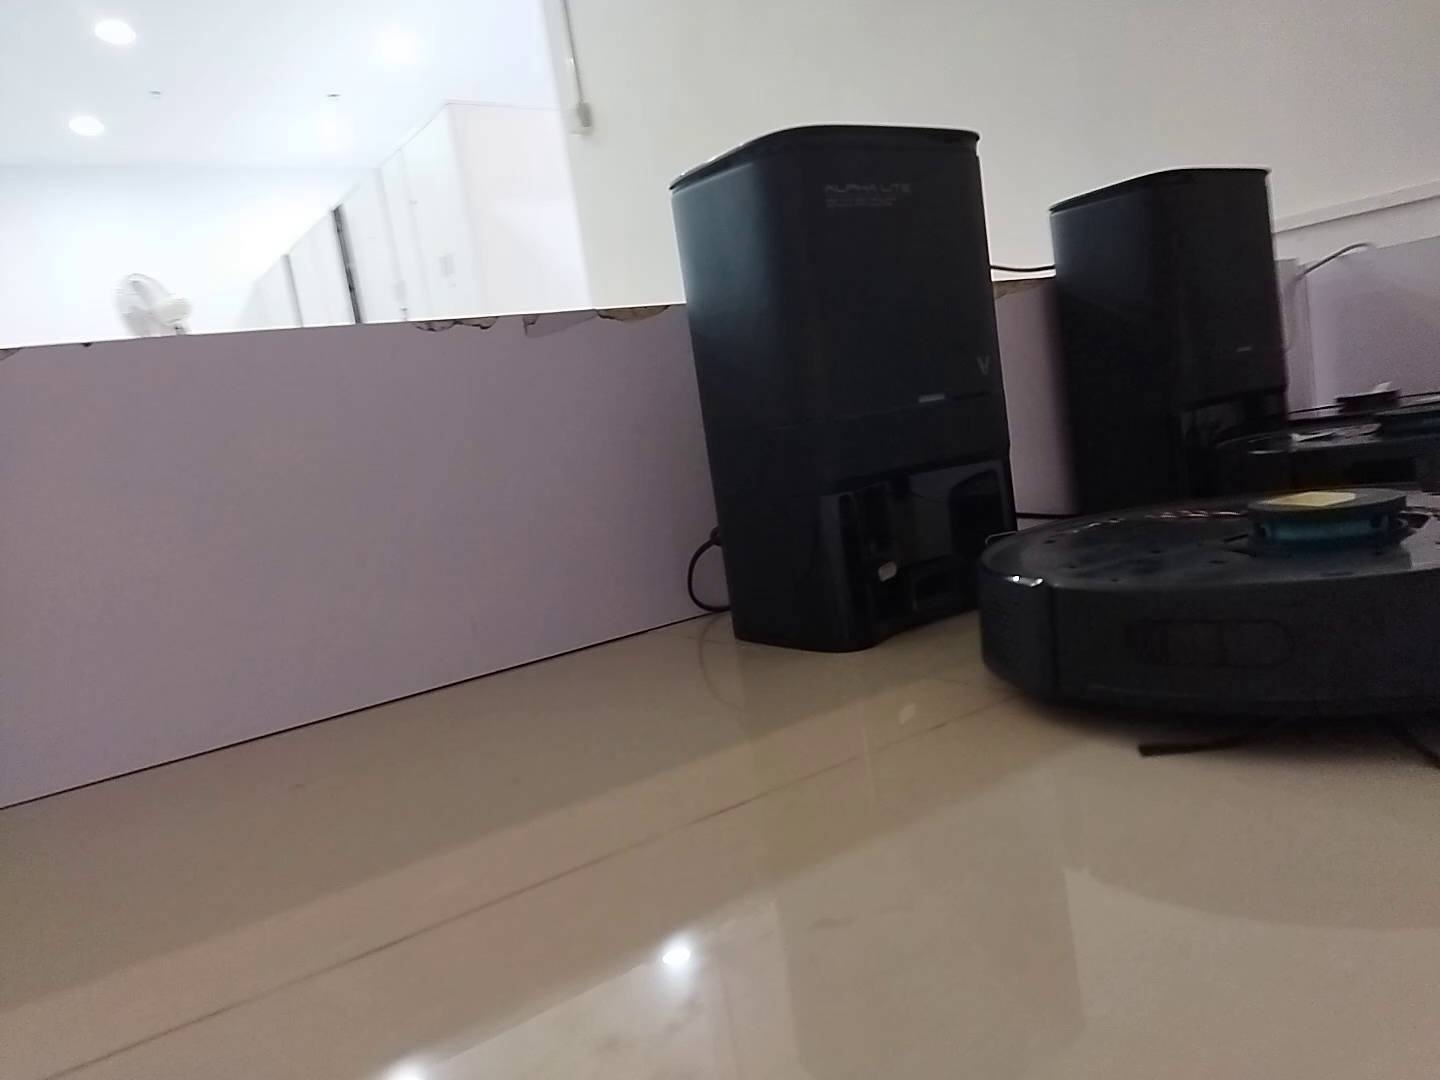dust collecting barrel: (669, 126, 1022, 653), (1050, 164, 1287, 508)
